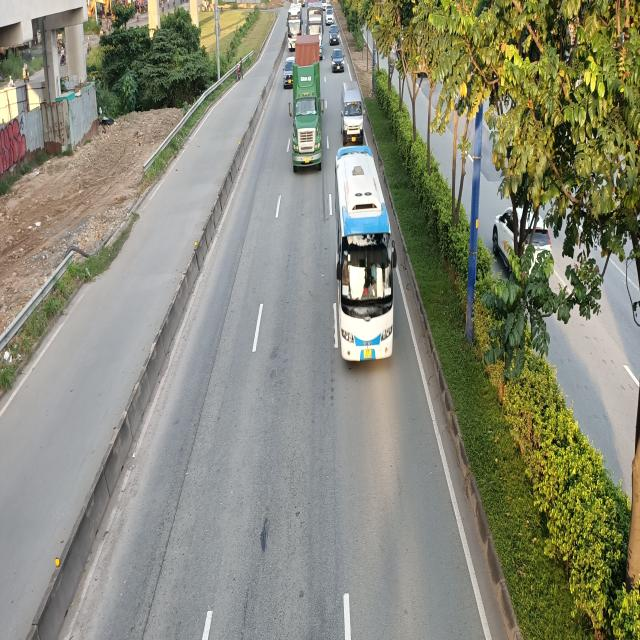car: (333, 48, 346, 74)
coach: (334, 143, 396, 358), (286, 4, 302, 51)
container: (290, 34, 323, 169)
van: (341, 83, 366, 144)
